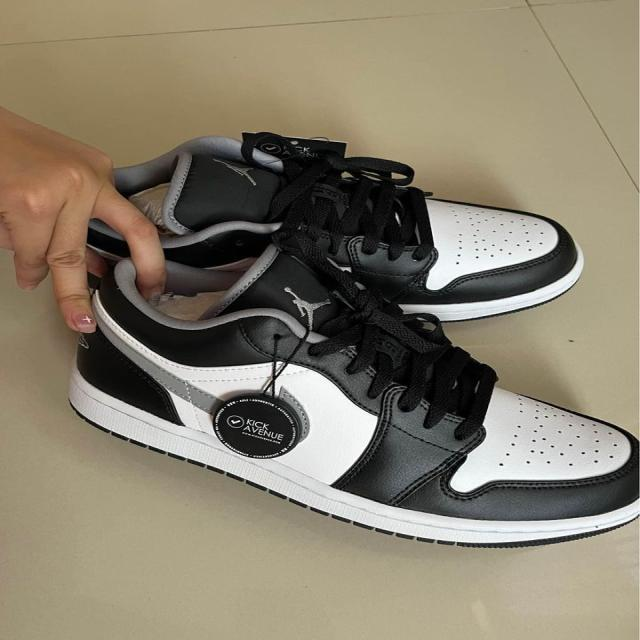nike original jordan 1: (55, 253, 640, 548), (73, 128, 587, 324)
